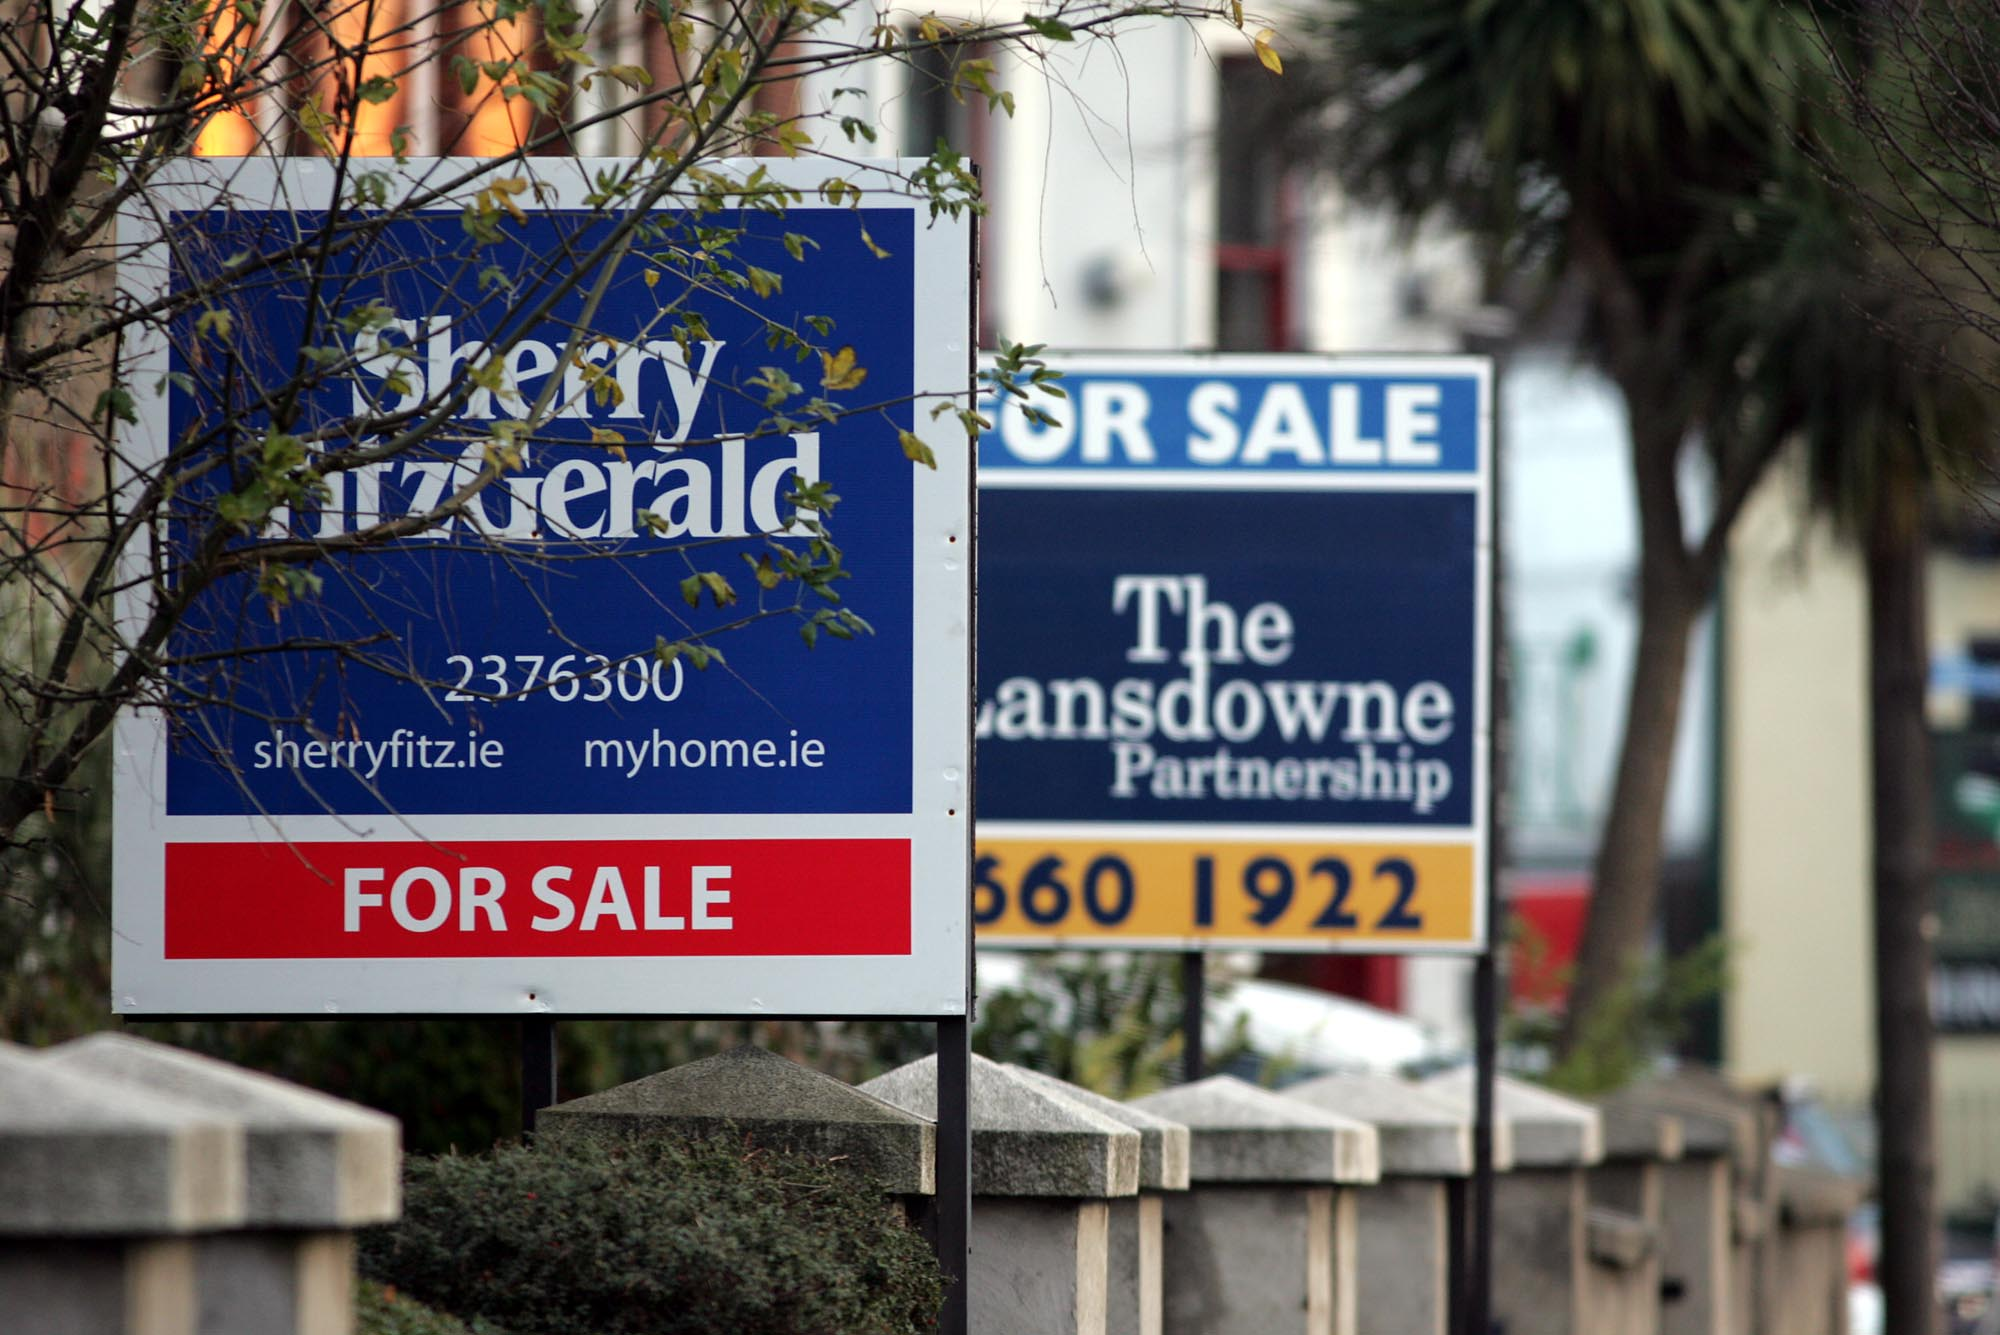property sign: (85, 115, 992, 1036), (978, 329, 1538, 1030)
